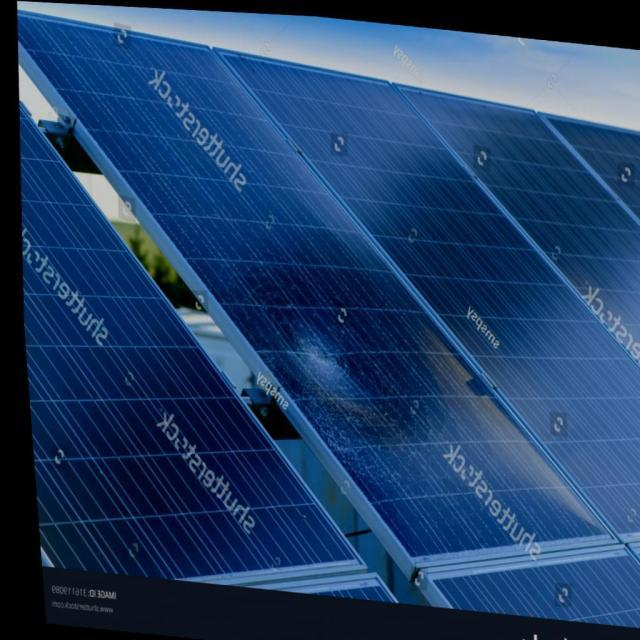cracked: (18, 9, 588, 550)
